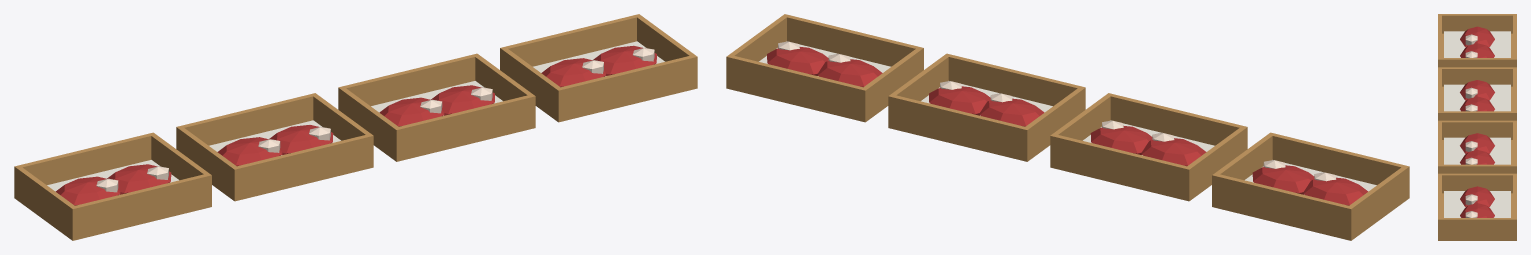
The model's file is market_food_meat.glb.
The picture shows the model from 3 angles, left to right: view 1: azimuth 30°, elevation 25°; view 2: azimuth 150°, elevation 25°; view 3: azimuth 270°, elevation 25°; orthographic projection. The views are drawn at different scales.
Parts seen in each view (by area): view 1: crate_crate_wood, goods_meat_red (×8), goods_tray_white (×4); view 2: crate_crate_wood, goods_meat_red (×8); view 3: crate_crate_wood, goods_tray_white (×4), goods_meat_red (×8), goods_meat_fat (×8).
Boxes of the visible parts, x1=… form: crate_crate_wood: x1=14, y1=14, x2=697, y2=240; goods_meat_red (×8): x1=55, y1=45, x2=656, y2=205; goods_tray_white (×4): x1=47, y1=41, x2=664, y2=194; crate_crate_wood: x1=726, y1=14, x2=1409, y2=240; goods_meat_red (×8): x1=767, y1=47, x2=1368, y2=205; crate_crate_wood: x1=1438, y1=14, x2=1516, y2=240; goods_tray_white (×4): x1=1444, y1=31, x2=1510, y2=217; goods_meat_red (×8): x1=1460, y1=26, x2=1494, y2=217; goods_meat_fat (×8): x1=1465, y1=34, x2=1477, y2=217.
Size of the model in its own units: 2.47 by 0.12 by 0.4.
